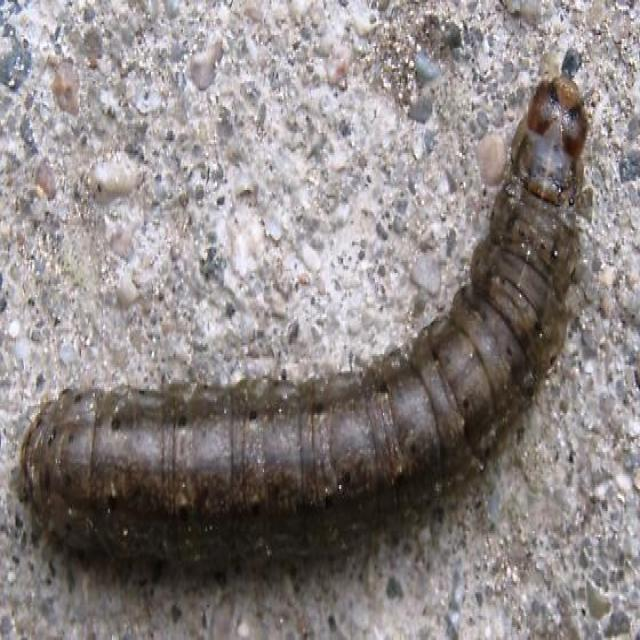black cutworm: (20, 76, 597, 576)
